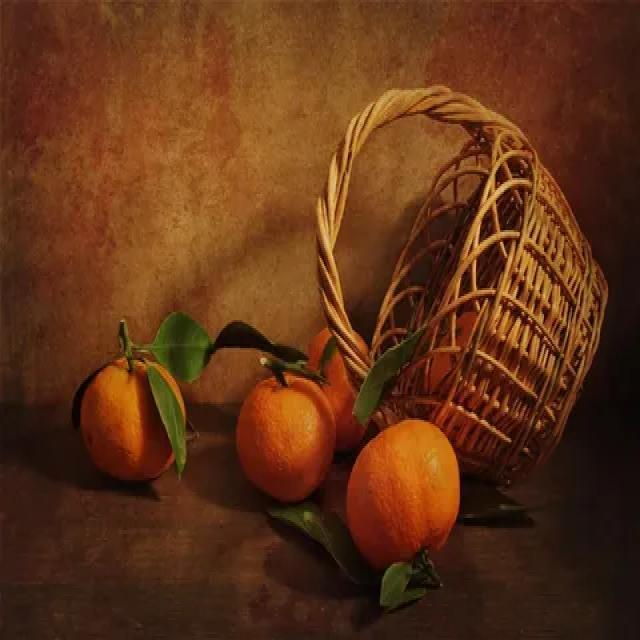orange: (336, 413, 480, 603)
